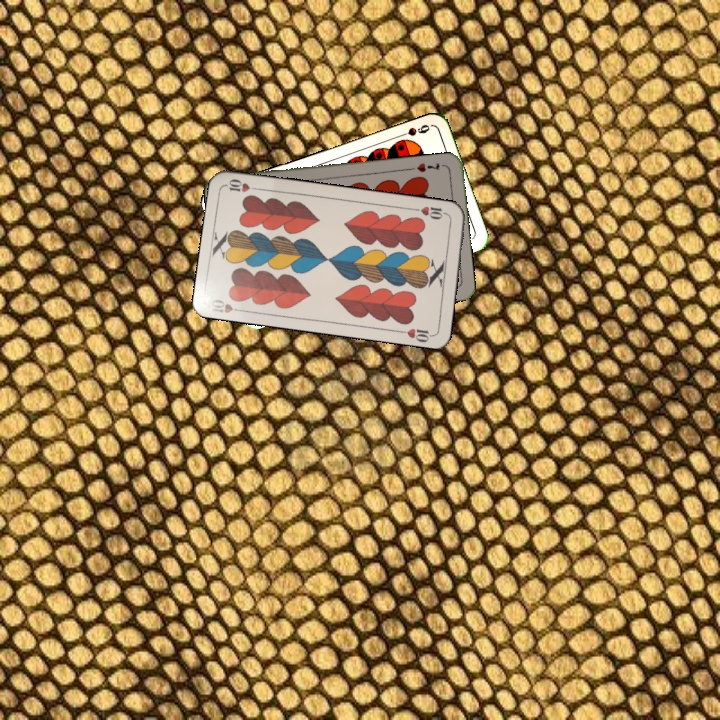H10: (207, 295, 247, 316), (410, 202, 451, 222)
H7: (413, 159, 443, 175)
S9: (393, 120, 432, 141)
